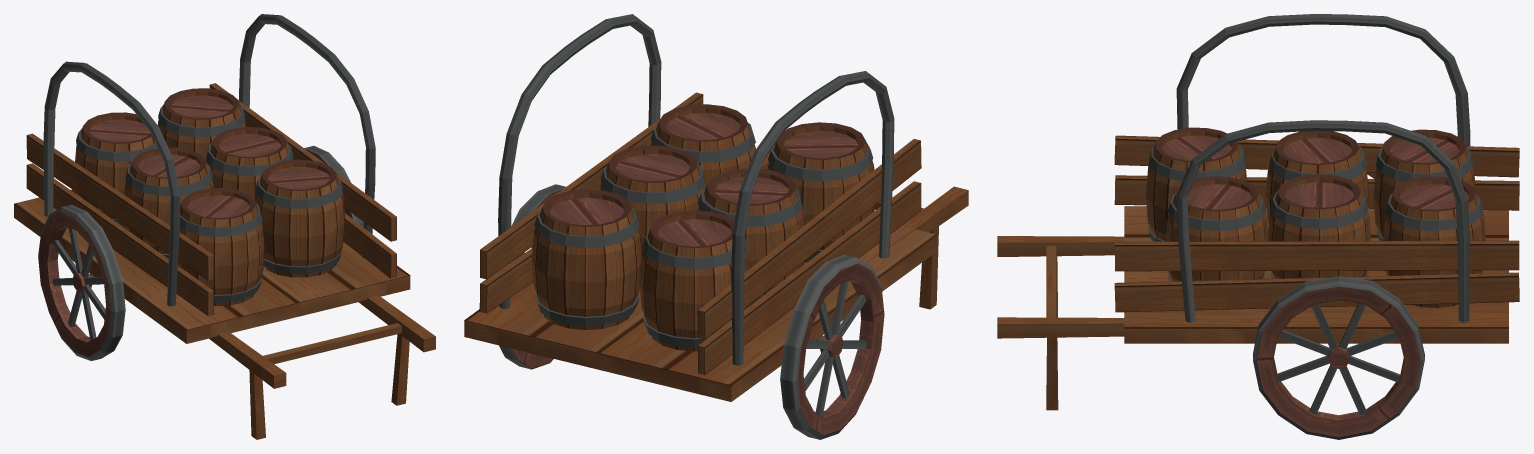
Rendered from Cart_Art.fbx.
3 views of the same model, side by side, from view 1: azimuth 30°, elevation 25°; view 2: azimuth 150°, elevation 25°; view 3: azimuth 270°, elevation 25° (orthographic). The views are drawn at different scales.
Visible parts, largest first — view 1: OktoberFest_Cart; view 2: OktoberFest_Cart; view 3: OktoberFest_Cart.
Part boxes in pixels (x1,y1,x2,y2): OktoberFest_Cart: (14,14,435,439); OktoberFest_Cart: (464,14,968,439); OktoberFest_Cart: (997,14,1519,439).
Bounding box in the file's own units: 337 × 342 × 534.
